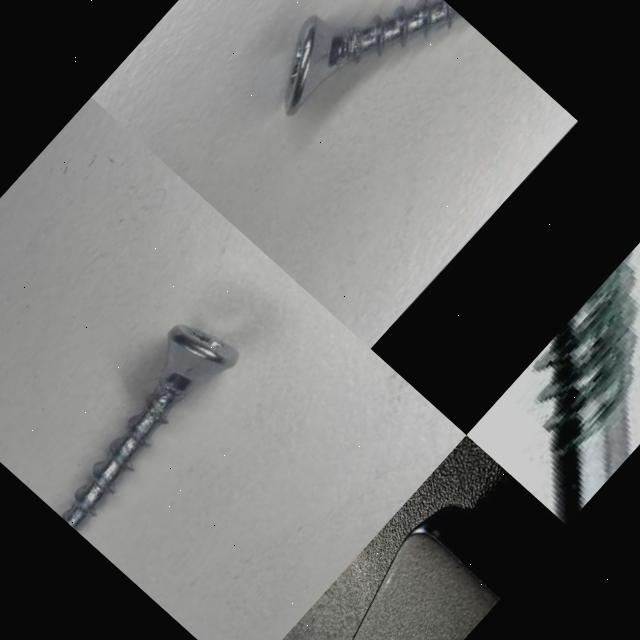Screw: (62, 325, 237, 530), (533, 248, 639, 525), (283, 0, 461, 116)
